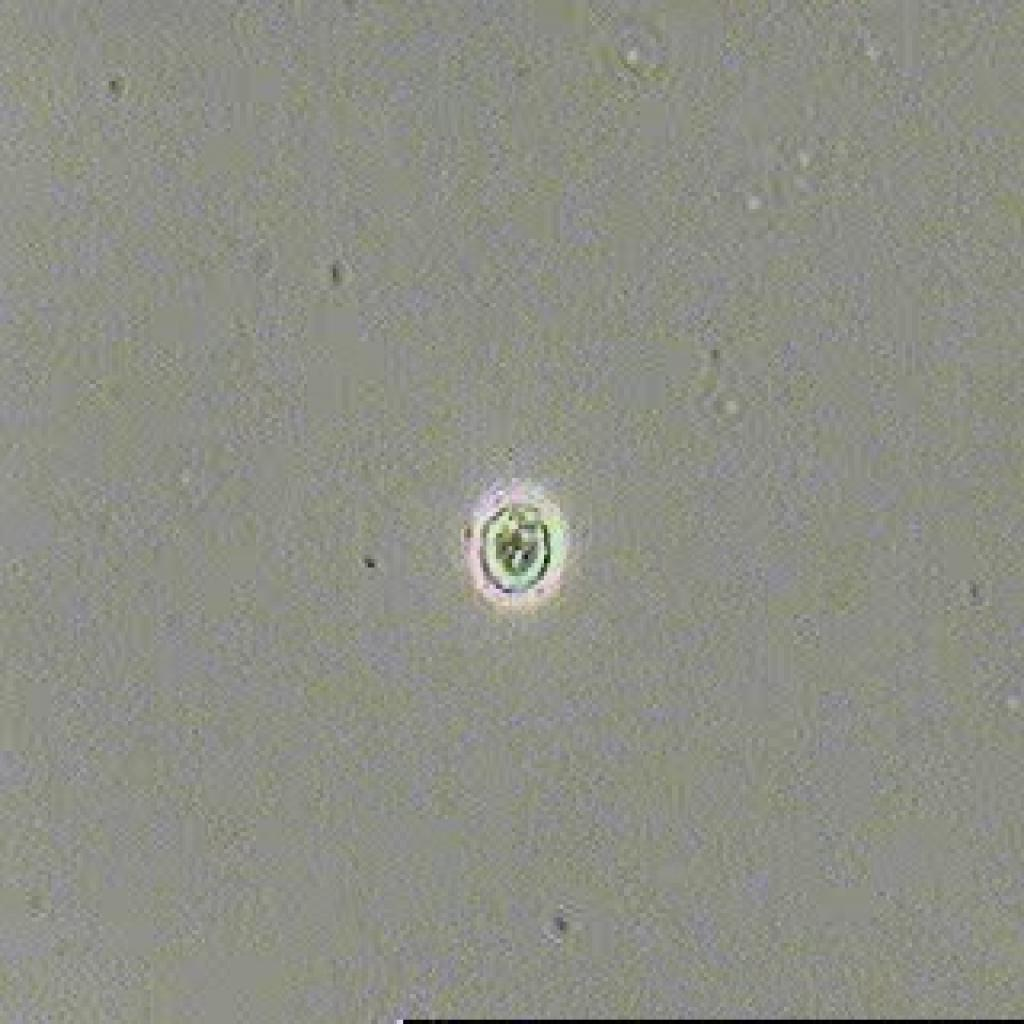Flagellates: (459, 474, 597, 640)
